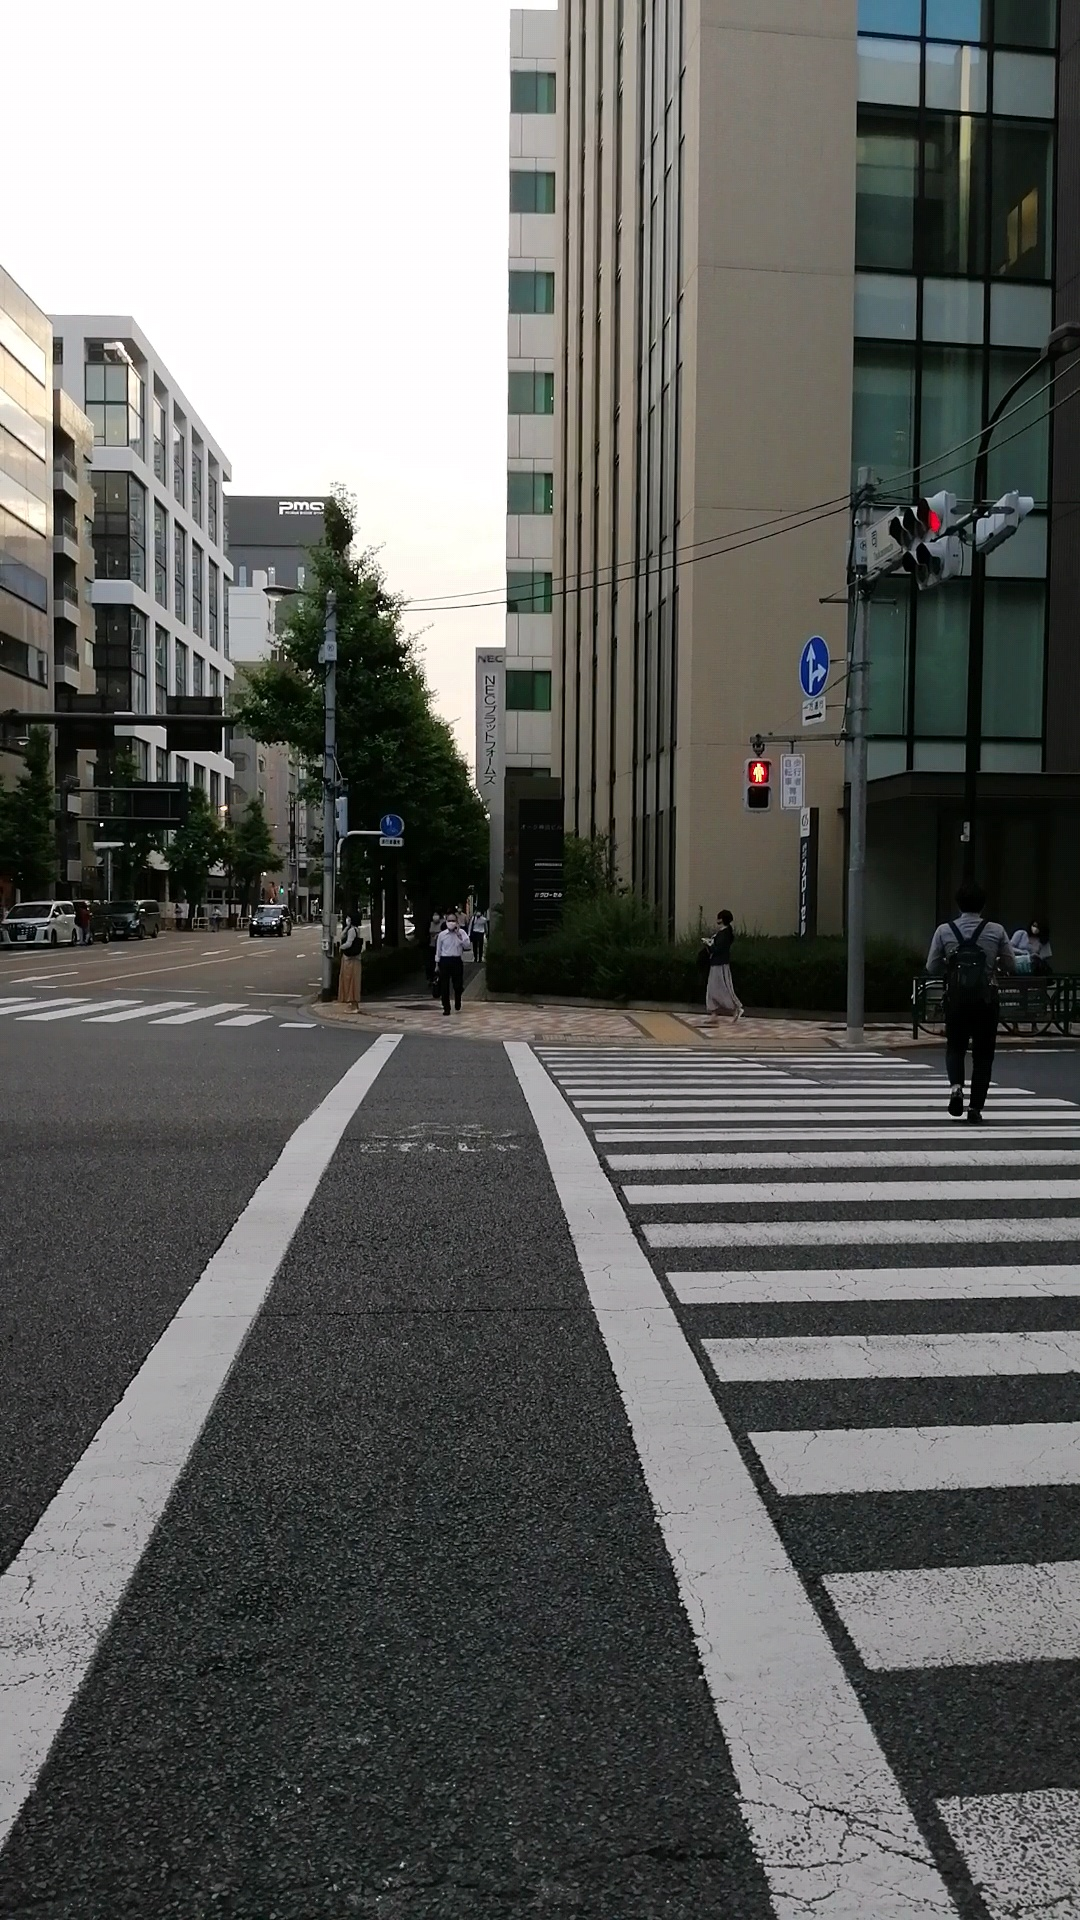red: (742, 756, 773, 814)
